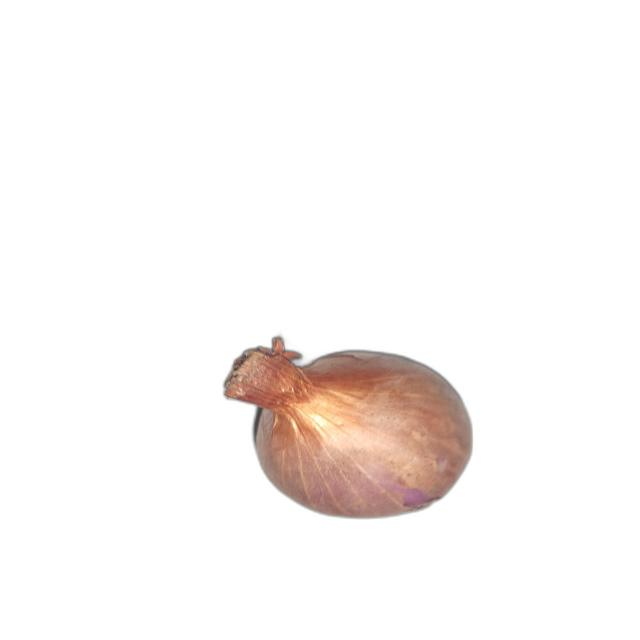onion: (221, 334, 476, 521)
